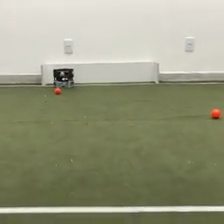ball: (209, 106, 222, 119), (54, 85, 63, 95)
goal: (33, 59, 161, 91)
robot: (51, 66, 76, 88)
